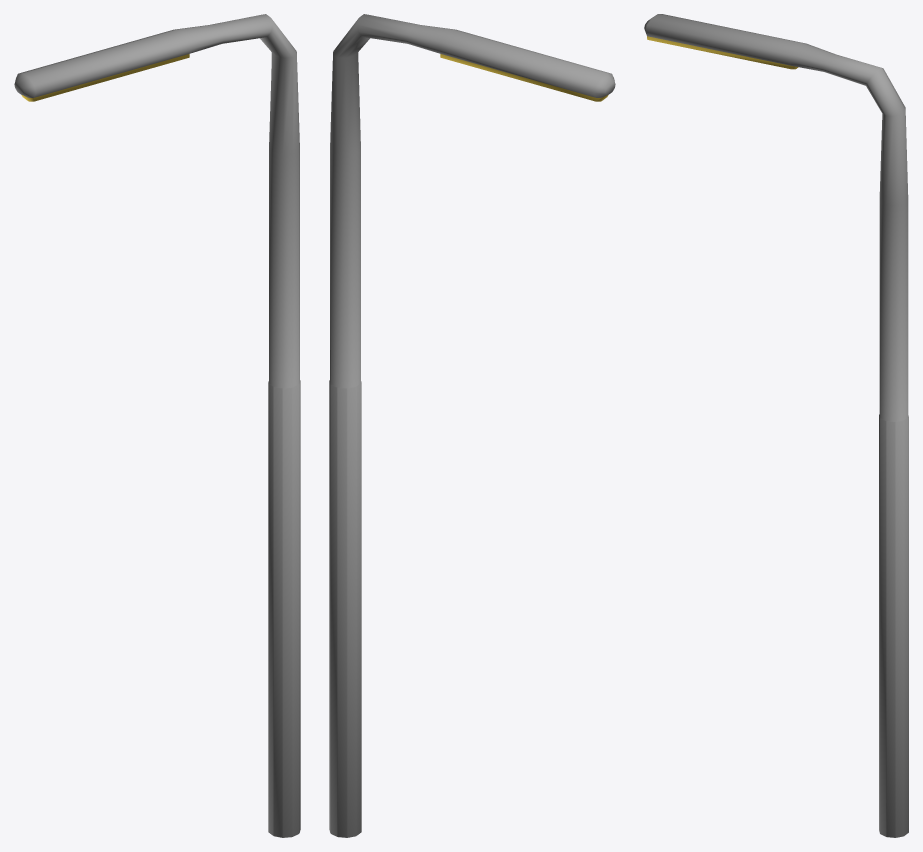
File: cityLight1.fbx
The picture shows the model from 3 angles, left to right: view 1: azimuth 30°, elevation 25°; view 2: azimuth 150°, elevation 25°; view 3: azimuth 330°, elevation 25°; orthographic projection. The views are drawn at different scales.
Parts seen in each view (by area): view 1: cityLight; view 2: cityLight; view 3: cityLight.
Boxes of the visible parts, x1,y1,x2,y2 form: cityLight: (14, 14, 300, 837); cityLight: (329, 14, 615, 837); cityLight: (644, 14, 908, 837).
Size of the model in its own units: 16.48 by 46.56 by 2.07.
